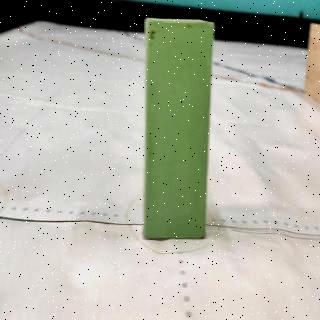greenbox: (141, 16, 215, 240)
